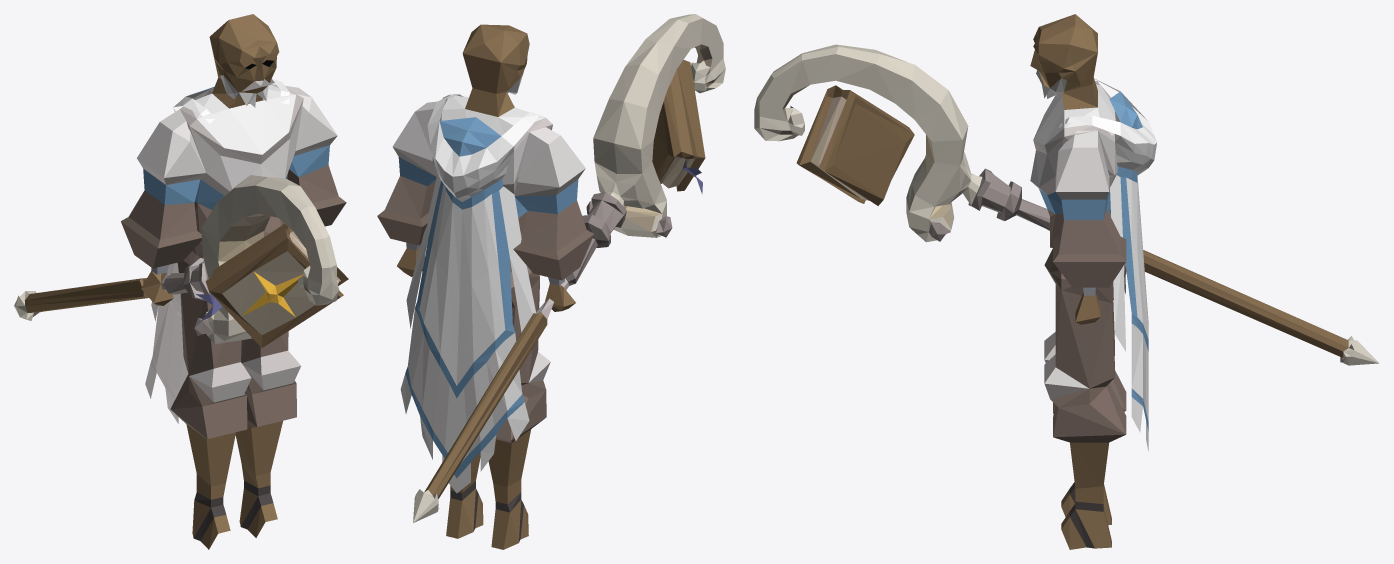
The model's file is myths-guild.gltf.
The picture shows the model from 3 angles, left to right: view 1: azimuth 30°, elevation 25°; view 2: azimuth 150°, elevation 25°; view 3: azimuth 270°, elevation 25°; orthographic projection. The views are drawn at different scales.
Size of the model in its own units: 91 by 201 by 222.
Materials: 1 (1 with a texture image).
